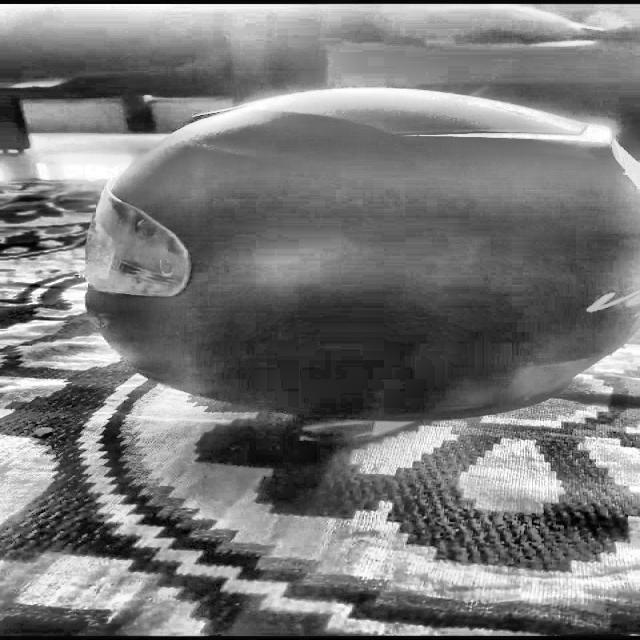Helmet: (91, 78, 640, 425)
